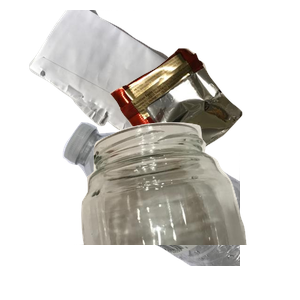glass: (74, 120, 300, 300)
paper: (27, 10, 252, 187)
plastic: (60, 120, 300, 300)
trash: (107, 46, 300, 198)
